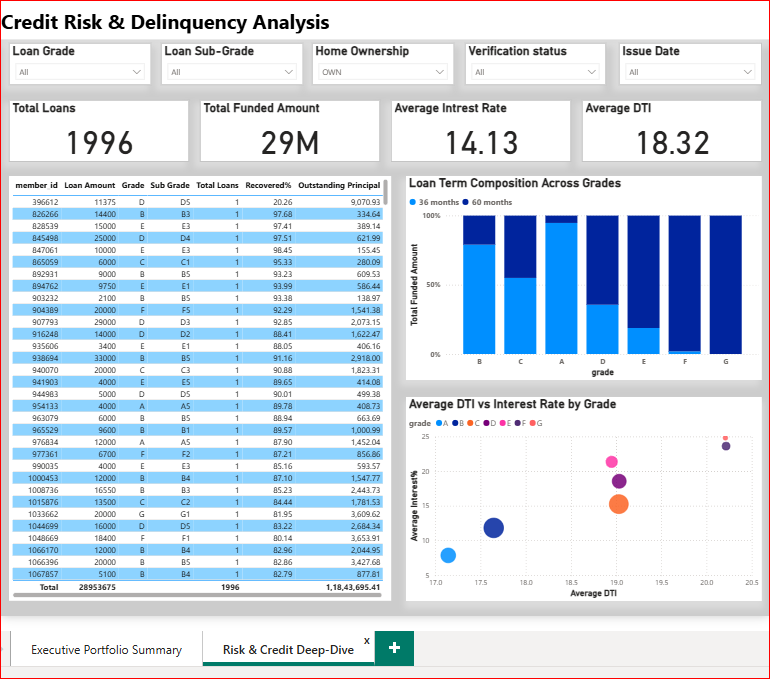

Layout of this report page (visuals, bound fields, positions):
{"tool":"powerbi","page":{"name":"Risk & Credit Deep-Dive","canvas":[1280,1025],"ordinal":1},"visuals":[{"type":"card","title":"Average DTI","fields":{"Values":["XYZCorp_LendingData - Copy.Average DTI"]},"box":[968.3,165,300,103.3],"z":0},{"type":"card","title":"Average Intrest Rate","fields":{"Values":["XYZCorp_LendingData - Copy.Avg Intrest Rate"]},"box":[650,165,300,103.3],"z":1000},{"type":"shape","box":[0,0,1280,64.3],"z":2000},{"type":"slicer","title":"Issue Date","fields":{"Values":["XYZCorp_LendingData - Copy.issue_d.Variation.Date Hierarchy.Year","XYZCorp_LendingData - Copy.issue_d.Variation.Date Hierarchy.Quarter","XYZCorp_LendingData - Copy.issue_d.Variation.Date Hierarchy.Month","XYZCorp_LendingData - Copy.issue_d.Variation.Date Hierarchy.Day"]},"box":[1030,70,238.3,70],"z":3000},{"type":"slicer","title":"Verification status","fields":{"Values":["XYZCorp_LendingData - Copy.verification_status"]},"box":[773.3,70,235,70],"z":4000},{"type":"slicer","title":"Loan Grade","fields":{"Values":["XYZCorp_LendingData - Copy.grade"]},"box":[13.3,70,236.7,70],"z":5000},{"type":"slicer","title":"Loan Sub-Grade","fields":{"Values":["XYZCorp_LendingData - Copy.sub_grade"]},"box":[266.7,70,236.7,70],"z":6000},{"type":"slicer","title":"Home Ownership","fields":{"Values":["XYZCorp_LendingData - Copy.home_ownership"]},"box":[518.3,70,236.7,70],"z":7000},{"type":"card","title":"Total Loans","fields":{"Values":["XYZCorp_LendingData - Copy.Total Loans"]},"box":[13.3,165,300,103.3],"z":8000},{"type":"card","title":"Total Funded Amount","fields":{"Values":["XYZCorp_LendingData - Copy.Total Funded Amount"]},"box":[331.7,165,300,103.3],"z":9000},{"type":"scatterChart","title":"Average DTI vs Interest Rate by Grade","fields":{"Y":["Avg(XYZCorp_LendingData - Copy.int_rate)"],"Series":["XYZCorp_LendingData - Copy.grade"],"Size":["Sum(XYZCorp_LendingData - Copy.loan_amnt)"],"X":["Avg(XYZCorp_LendingData - Copy.dti)"]},"box":[675,660,593.3,340],"z":10000},{"type":"hundredPercentStackedColumnChart","title":"Loan Term Composition Across Grades","fields":{"Category":["XYZCorp_LendingData - Copy.grade"],"Series":["XYZCorp_LendingData - Copy.term"],"Y":["XYZCorp_LendingData - Copy.Total Funded Amount"]},"box":[675,291.7,593.3,340],"z":11000},{"type":"tableEx","fields":{"Values":["XYZCorp_LendingData - Copy.member_id","Sum(XYZCorp_LendingData - Copy.loan_amnt)","XYZCorp_LendingData - Copy.grade","XYZCorp_LendingData - Copy.sub_grade","XYZCorp_LendingData - Copy.Total Loans","XYZCorp_LendingData - Copy.Recovered%","XYZCorp_LendingData - Copy.Total Outstanding Principal"]},"box":[13.3,291.7,636.7,708.3],"z":12000}]}

Visuals, with their boxes on the page's 1280x1025 design canvas (x1, y1, x2, y2). These are canvas units, not pixel positions in the 770x679 screenshot, which may show the page scaled, cropped or inside an application window:
"Average DTI" card: x1=968, y1=165, x2=1268, y2=268
"Average Intrest Rate" card: x1=650, y1=165, x2=950, y2=268
shape: x1=0, y1=0, x2=1280, y2=64
"Issue Date" slicer: x1=1030, y1=70, x2=1268, y2=140
"Verification status" slicer: x1=773, y1=70, x2=1008, y2=140
"Loan Grade" slicer: x1=13, y1=70, x2=250, y2=140
"Loan Sub-Grade" slicer: x1=267, y1=70, x2=503, y2=140
"Home Ownership" slicer: x1=518, y1=70, x2=755, y2=140
"Total Loans" card: x1=13, y1=165, x2=313, y2=268
"Total Funded Amount" card: x1=332, y1=165, x2=632, y2=268
"Average DTI vs Interest Rate by Grade" scatterChart: x1=675, y1=660, x2=1268, y2=1000
"Loan Term Composition Across Grades" hundredPercentStackedColumnChart: x1=675, y1=292, x2=1268, y2=632
tableEx - XYZCorp_LendingData - Copy.member_id x Sum(XYZCorp_LendingData - Copy.loan_amnt): x1=13, y1=292, x2=650, y2=1000
